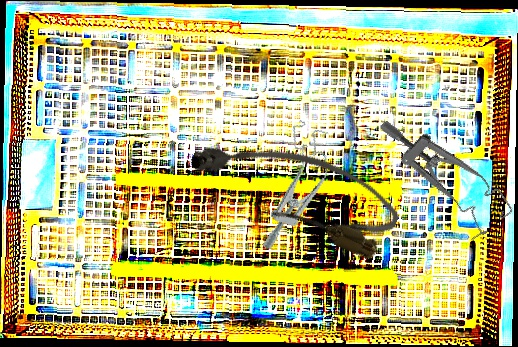Cannula: (183, 110, 408, 265)
Speculum: (376, 90, 517, 250), (253, 118, 341, 259)
